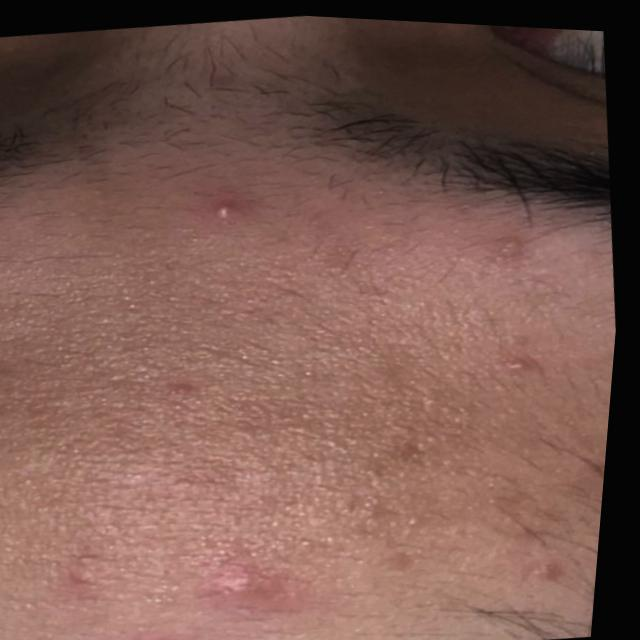papule: (31, 501, 357, 640)
pustule: (496, 338, 560, 378), (491, 214, 538, 267), (196, 181, 248, 228)
